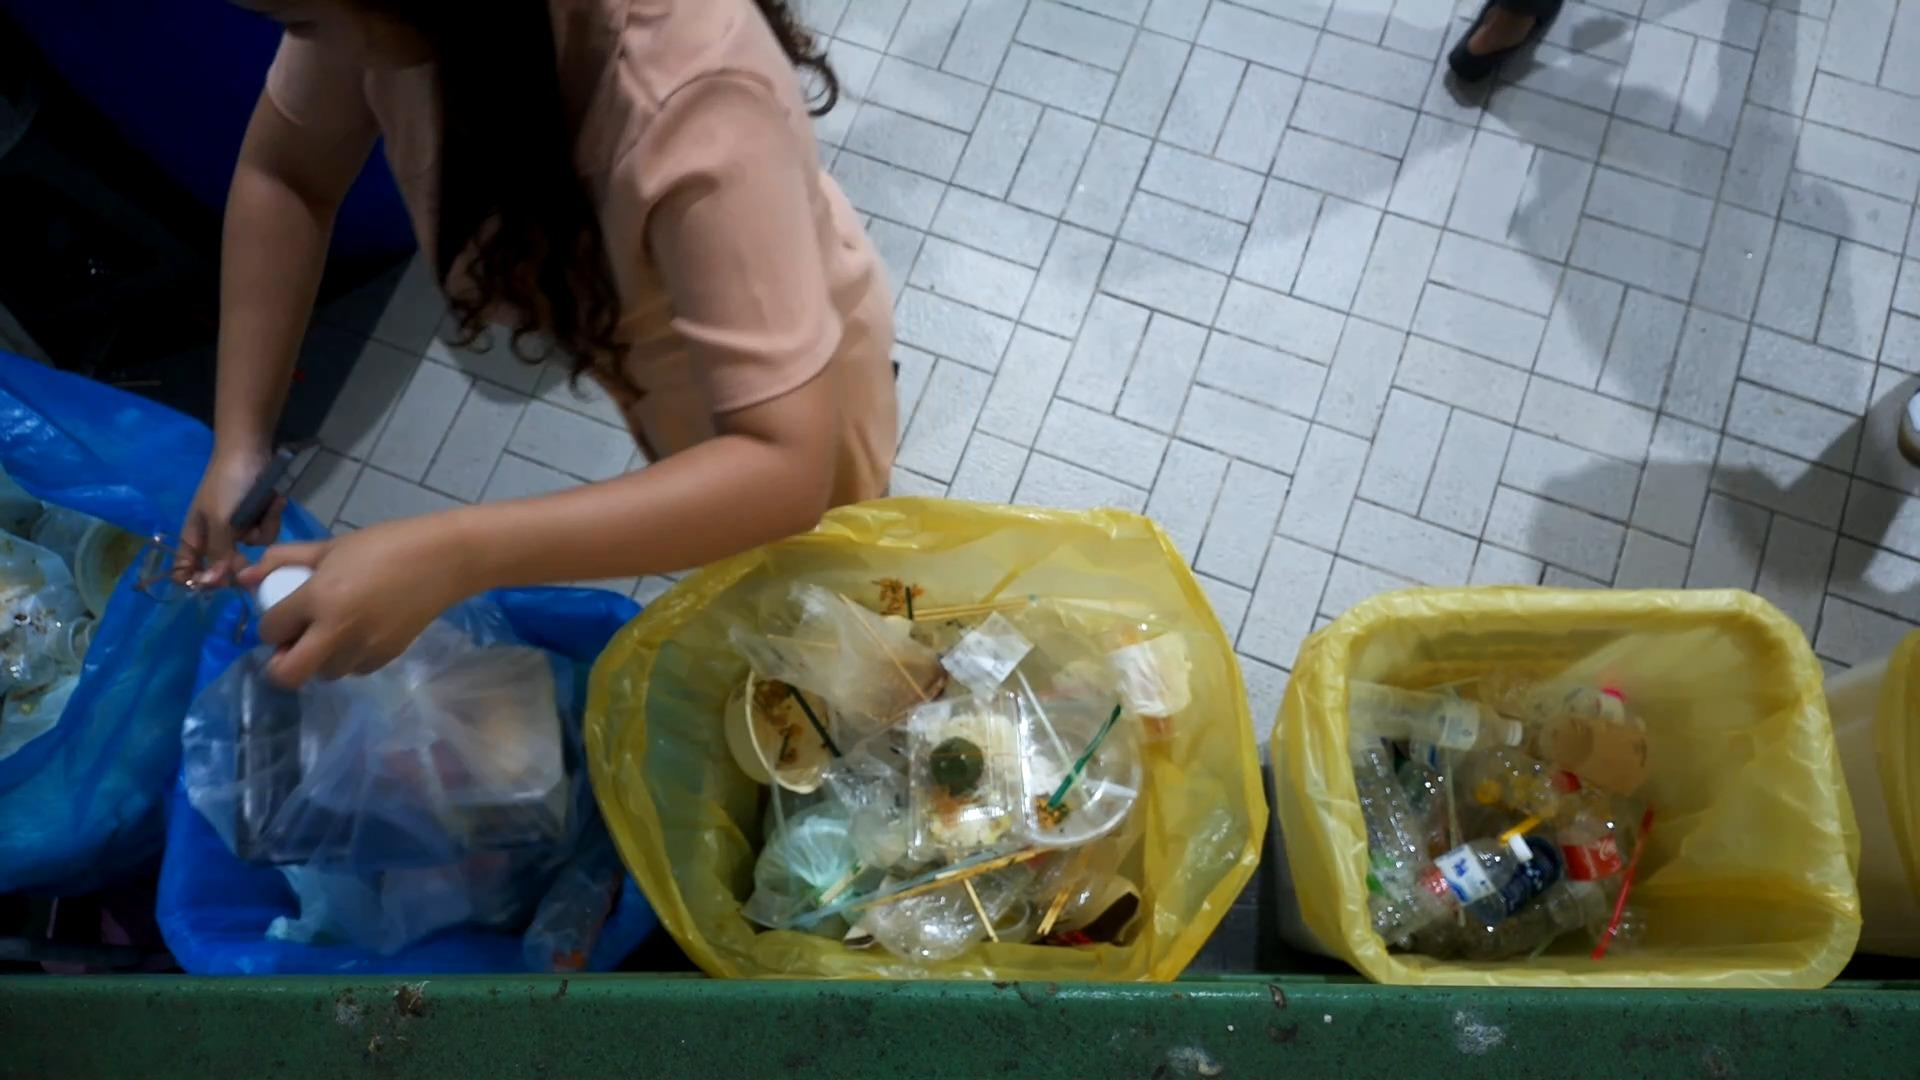dirty food container: (890, 686, 1050, 858), (721, 669, 833, 796)
filled plastic bag: (170, 611, 589, 873), (723, 574, 939, 725), (737, 808, 899, 967), (851, 868, 1017, 967)
food container: (1017, 688, 1147, 852)
plastic bag: (501, 825, 632, 988)
plastic bottle: (1364, 837, 1536, 961), (1336, 732, 1436, 874), (1549, 765, 1629, 932)
plastic cup: (1085, 593, 1205, 745)
plastic cutlery: (1050, 762, 1138, 807)
sticks: (844, 848, 1048, 919), (943, 844, 1014, 944), (899, 588, 1031, 630), (1036, 876, 1076, 943)
straw: (1582, 783, 1687, 955), (1350, 678, 1530, 749), (1021, 674, 1106, 808), (1423, 700, 1482, 862), (1040, 704, 1120, 814), (766, 669, 844, 769)
